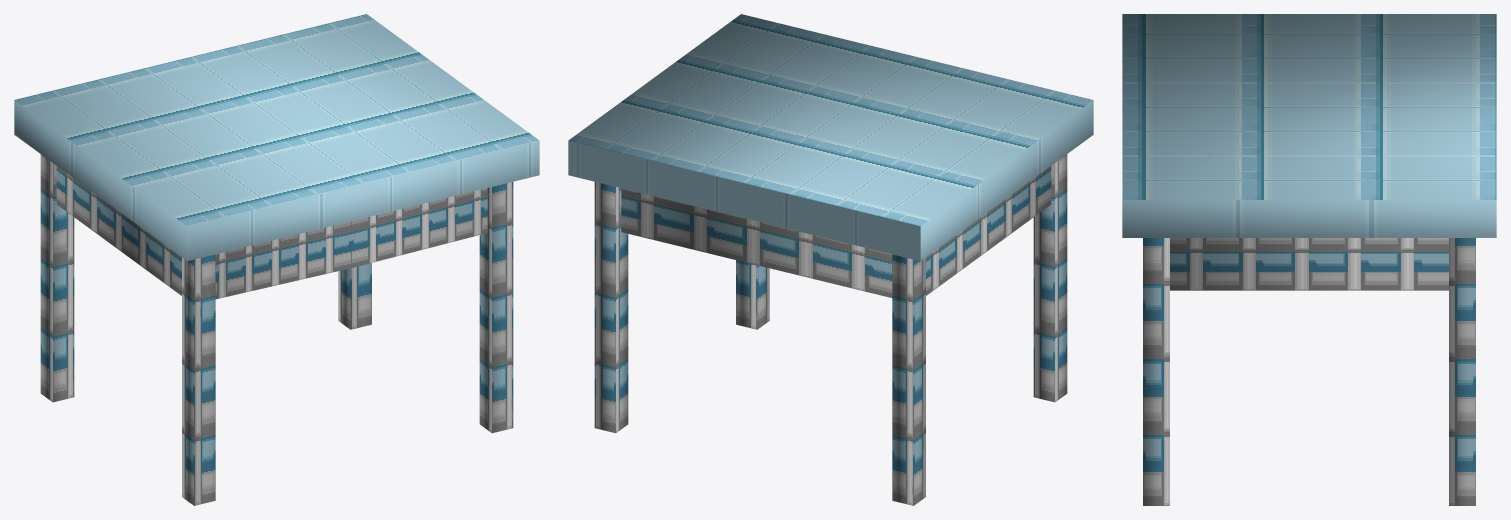
File: 3238IMSD01_24.gltf
The picture shows the model from 3 angles, left to right: view 1: azimuth 30°, elevation 25°; view 2: azimuth 150°, elevation 25°; view 3: azimuth 270°, elevation 25°; orthographic projection. The views are drawn at different scales.
Visible parts, largest first — view 1: 3238IMSD01_24; view 2: 3238IMSD01_24; view 3: 3238IMSD01_24.
Boxes of the visible parts, left/top/right/bottom form: 3238IMSD01_24: left=14, top=14, right=539, bottom=505; 3238IMSD01_24: left=568, top=14, right=1093, bottom=505; 3238IMSD01_24: left=1122, top=14, right=1496, bottom=505.
Bounding box in the file's own units: 0.9517 × 0.75 × 0.8081.
Materials: 2 (2 with a texture image).
